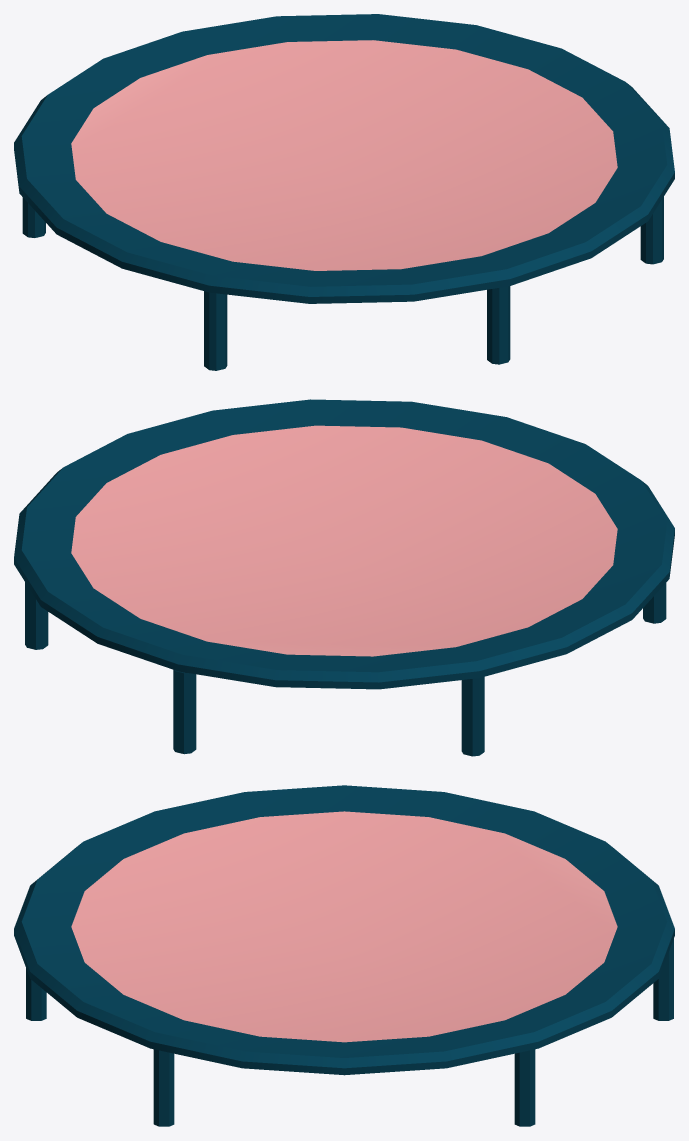
Rendered from SM_Y_04_F_Trampoline.fbx.
3 views of the same model, one above another, from view 1: azimuth 30°, elevation 25°; view 2: azimuth 150°, elevation 25°; view 3: azimuth 270°, elevation 25° (orthographic).
Visible parts, largest first — view 1: SM_Y_04_F_Trampoline; view 2: SM_Y_04_F_Trampoline; view 3: SM_Y_04_F_Trampoline.
Part boxes in pixels (<box>): SM_Y_04_F_Trampoline: <box>14,14,674,370</box>; SM_Y_04_F_Trampoline: <box>14,399,674,756</box>; SM_Y_04_F_Trampoline: <box>14,785,674,1126</box>.
Bounding box in the file's own units: 457 × 72.7 × 457.
